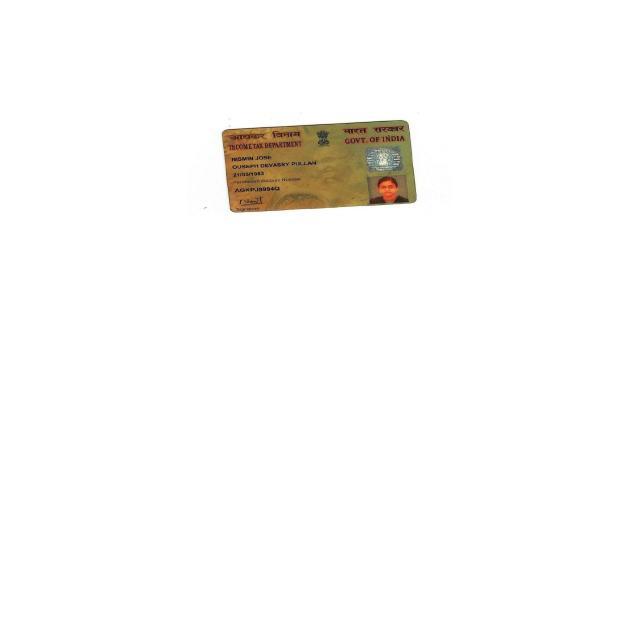pan_card: (222, 121, 417, 213)
